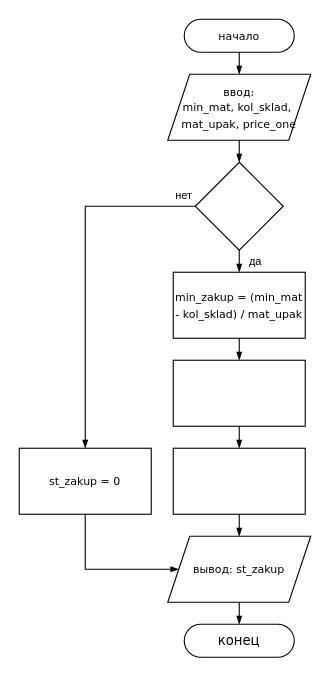
Image size: 330x677. Some labels were removed from this diagram. The box of each missing label's shape, as (x1, y1, x2, y2) in pixels:
kol_sklad < min_mat: (194, 161, 283, 250)
st_zakup = min_zakup * price_one: (172, 447, 305, 514)
округлить до большего: min_zakup: (172, 359, 305, 426)
